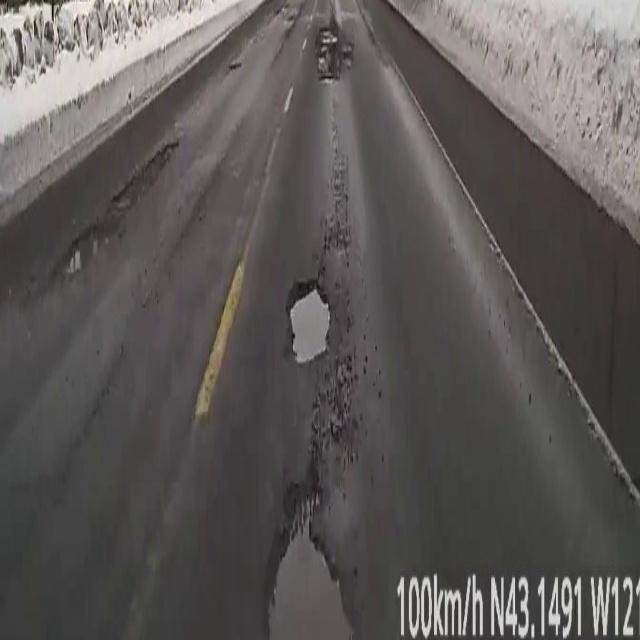pothole: (56, 140, 178, 278), (261, 471, 354, 640), (288, 275, 331, 360), (315, 24, 355, 84)
